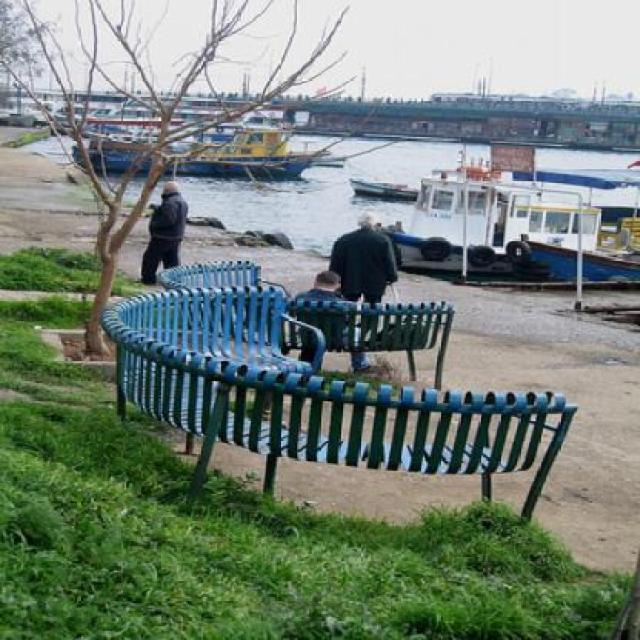Person: (328, 211, 400, 311), (134, 182, 188, 286), (294, 270, 346, 307)
